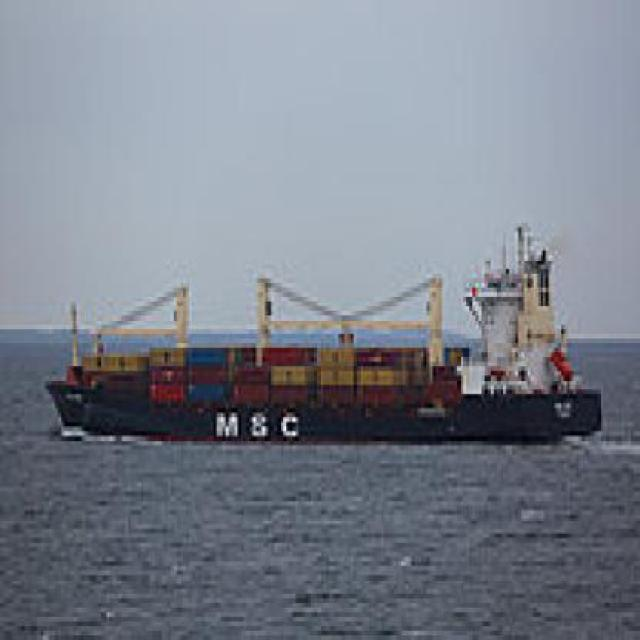container: (43, 210, 611, 461)
